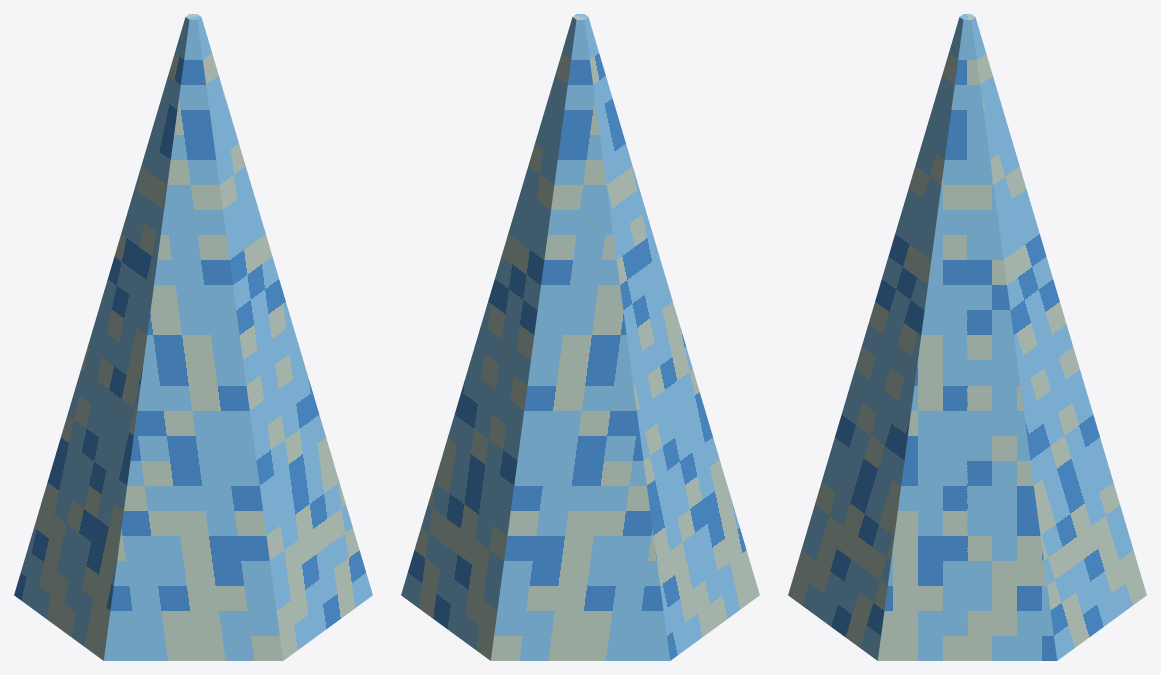
File: r05_estaca_gelo.glb
3 views of the same model, side by side, from view 1: azimuth 30°, elevation 25°; view 2: azimuth 150°, elevation 25°; view 3: azimuth 270°, elevation 25° (orthographic).
Visible parts, largest first — view 1: r05_estaca_gelo; view 2: r05_estaca_gelo; view 3: r05_estaca_gelo.
Part boxes in pixels (x1,y1,x2,y2): r05_estaca_gelo: (14,14,372,660); r05_estaca_gelo: (401,14,759,660); r05_estaca_gelo: (788,14,1146,660).
Size of the model in its own units: 0.7794 by 1.6 by 0.9.
1 material, 1 textured.
